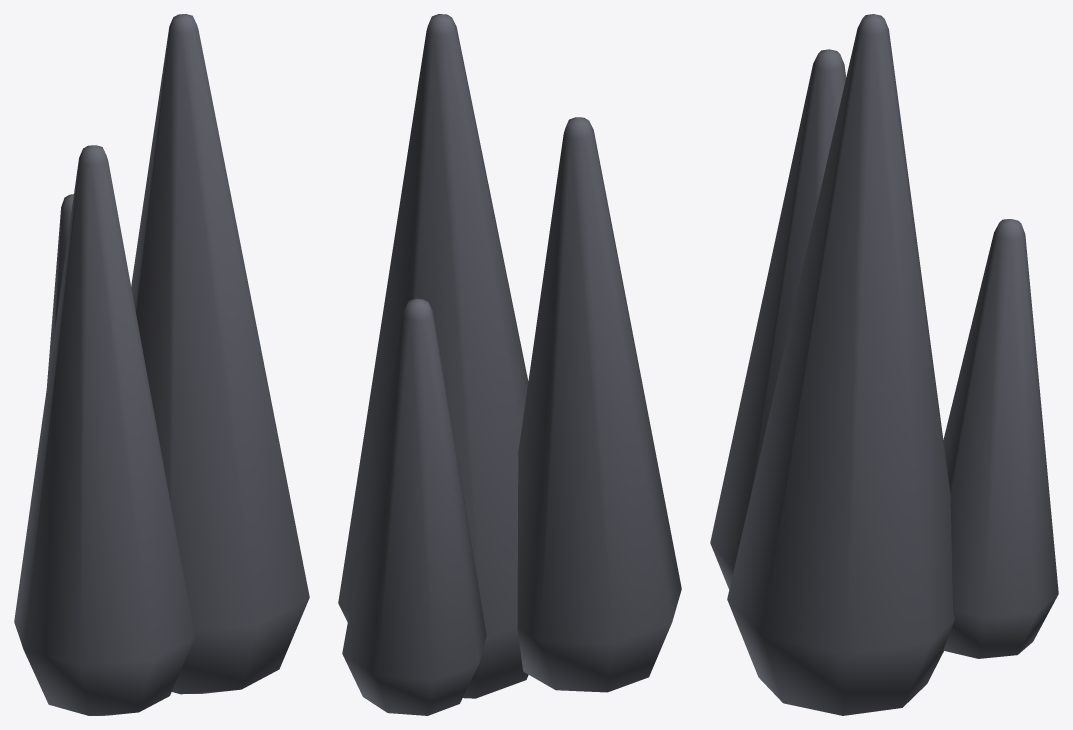
File: prop_stalag3_4c6c.glb
The picture shows the model from 3 angles, left to right: view 1: azimuth 30°, elevation 25°; view 2: azimuth 150°, elevation 25°; view 3: azimuth 270°, elevation 25°; orthographic projection. The views are drawn at different scales.
Visible parts, largest first — view 1: prop_stalag3_4c6c; view 2: prop_stalag3_4c6c; view 3: prop_stalag3_4c6c.
Part boxes in pixels (x1,y1,x2,y2): prop_stalag3_4c6c: (14,14,309,715); prop_stalag3_4c6c: (338,14,681,715); prop_stalag3_4c6c: (710,14,1058,715).
Bounding box in the file's own units: 0.4961 × 1.08 × 0.4901.
Materials: 1 (1 with a texture image).
